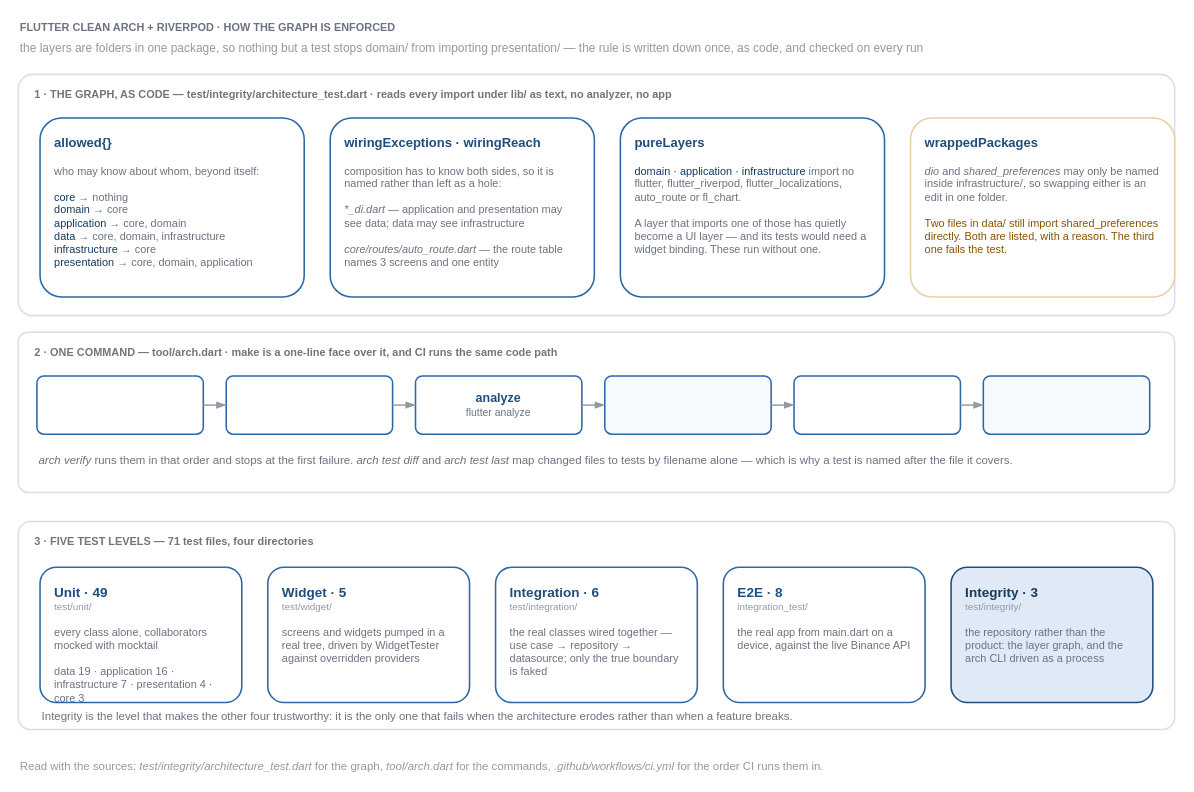
This 1194x792 diagram has some shape labels left out. Each missing label, with the centre of its shape:
"codegen gate rebuild · fail if the output moved" goes at point (687, 405).
"coverage gate 95% per layer" goes at point (1066, 405).
"format dart format --set-exit-if-changed" goes at point (309, 405).
"make setup pub get · l10n" goes at point (120, 405).
"test 5 levels, with coverage" goes at point (877, 405).
